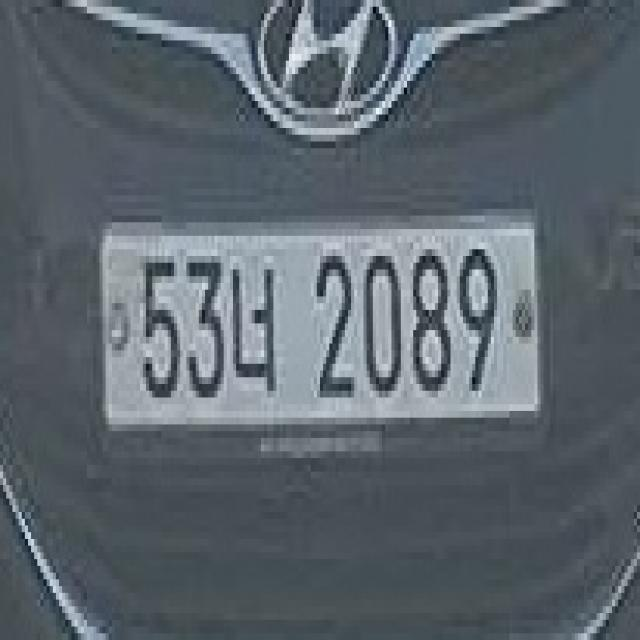0: (360, 242, 410, 390)
2: (311, 236, 360, 404)
3: (174, 256, 227, 411)
5: (137, 236, 183, 404)
8: (407, 242, 450, 390)
9: (454, 229, 503, 404)
license_plate: (93, 209, 553, 438)
neo: (220, 242, 280, 390)
